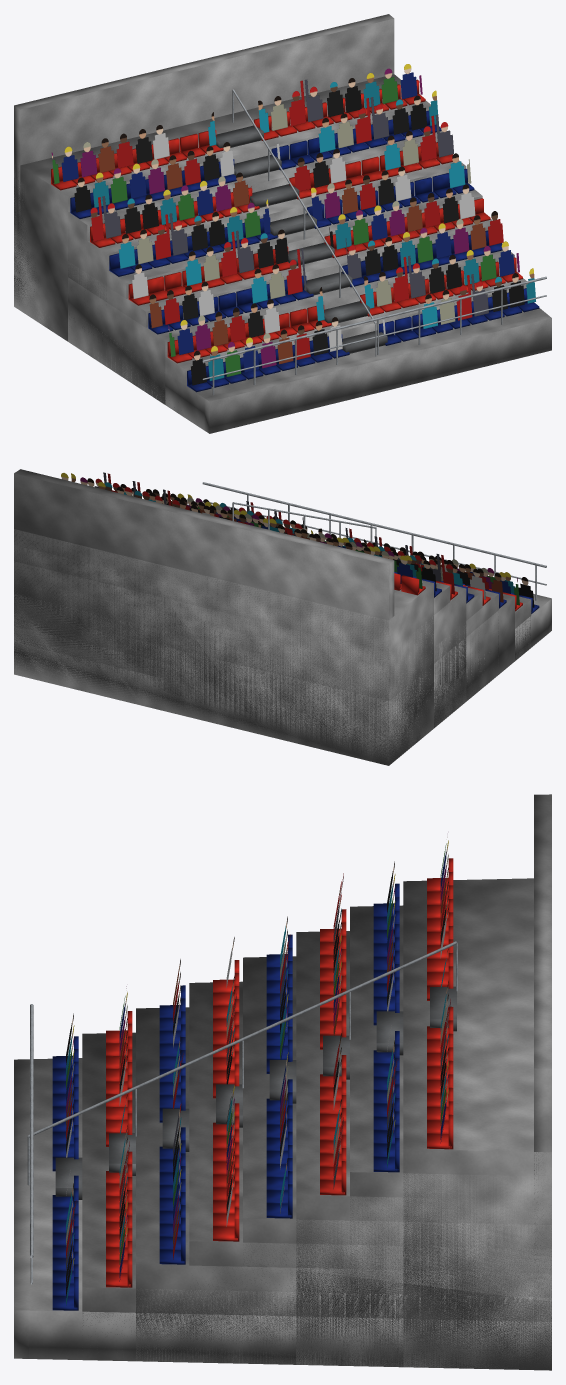
File: bay_10m_curve6_crowd.glb
3 renders of one model, top to bottom at view 1: azimuth 30°, elevation 25°; view 2: azimuth 150°, elevation 25°; view 3: azimuth 270°, elevation 25°, orthographic. The views are drawn at different scales.
Parts seen in each view (by area): view 1: bay_10m_curve6_crowd; view 2: bay_10m_curve6_crowd; view 3: bay_10m_curve6_crowd.
Boxes of the visible parts, left/top/right/bottom form: bay_10m_curve6_crowd: left=14, top=14, right=551, bottom=433; bay_10m_curve6_crowd: left=14, top=469, right=551, bottom=765; bay_10m_curve6_crowd: left=14, top=794, right=551, bottom=1370.
Bounding box in the file's own units: 10.92 × 5.6 × 9.05.
Materials: 6 (6 with a texture image).
